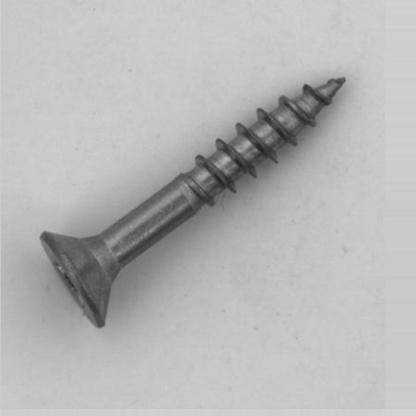metal: (39, 75, 346, 328)
